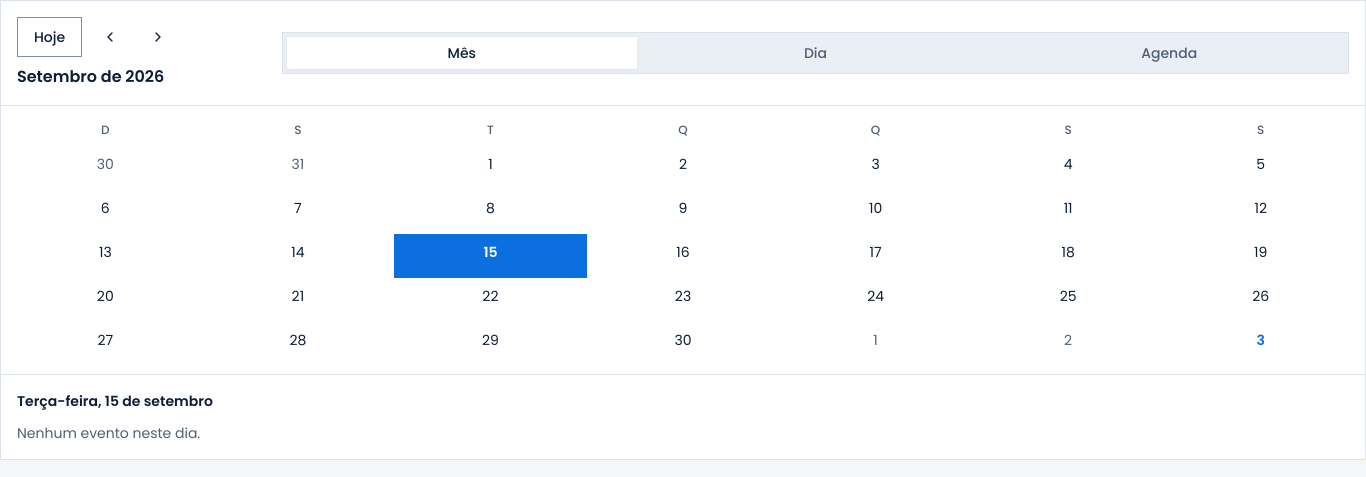
Test: Calendar › selecionar um dia marca ele como selecionado e o valor volta na interface
Click the button named "20 de setembro" at (105,300), box [9,278,202,322]
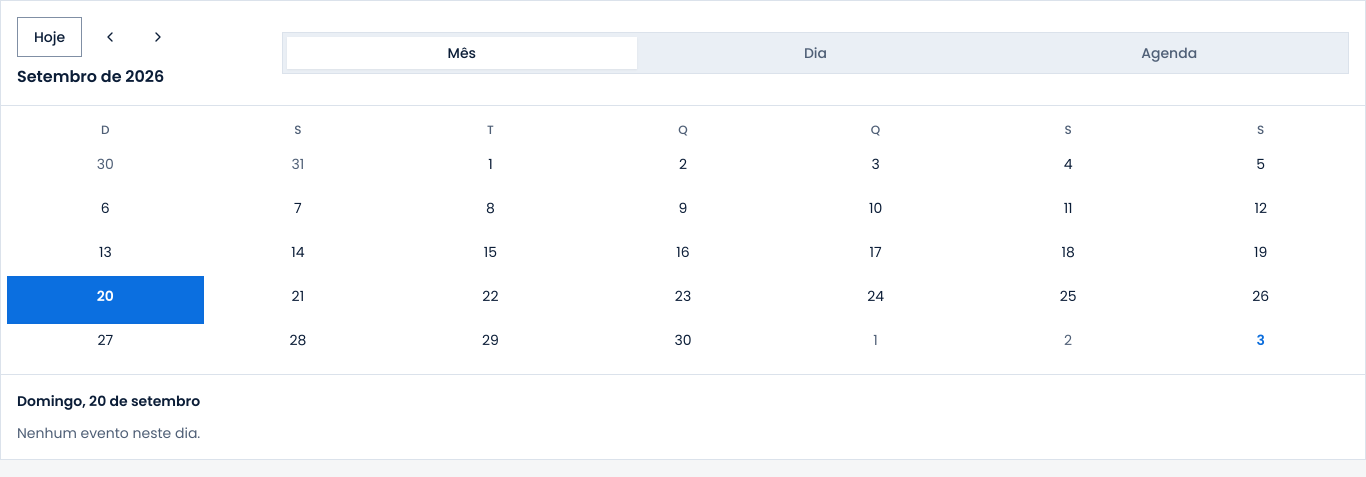
Now the text "Domingo, 20 de setembro" is shown, box [17,391,200,411]
